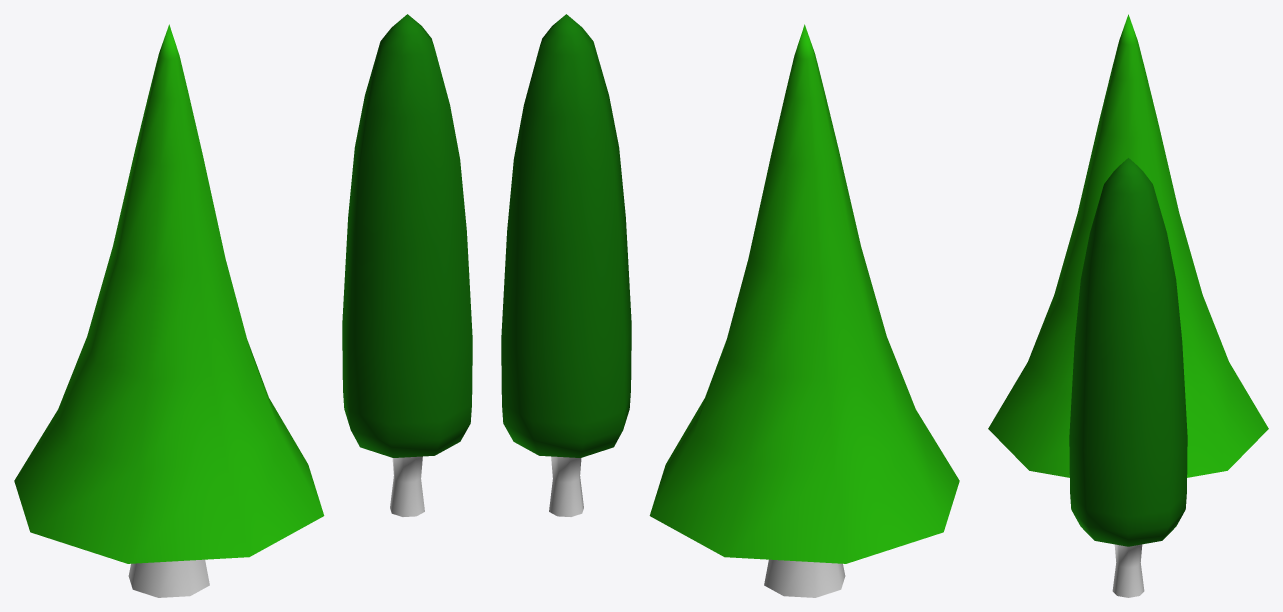
The model's file is 2 tree.fbx.
The picture shows the model from 3 angles, left to right: view 1: azimuth 30°, elevation 25°; view 2: azimuth 150°, elevation 25°; view 3: azimuth 270°, elevation 25°; orthographic projection. The views are drawn at different scales.
Visible parts, largest first — view 1: tree_1, Tree_2; view 2: tree_1, Tree_2; view 3: Tree_2, tree_1.
Boxes of the visible parts, left/top/right/bottom form: tree_1: left=14, top=24, right=324, bottom=597; Tree_2: left=342, top=14, right=472, bottom=516; tree_1: left=649, top=24, right=959, bottom=597; Tree_2: left=501, top=14, right=631, bottom=516; Tree_2: left=1069, top=158, right=1187, bottom=597; tree_1: left=988, top=14, right=1268, bottom=477.
Bounding box in the file's own units: 995 × 1215 × 635.
